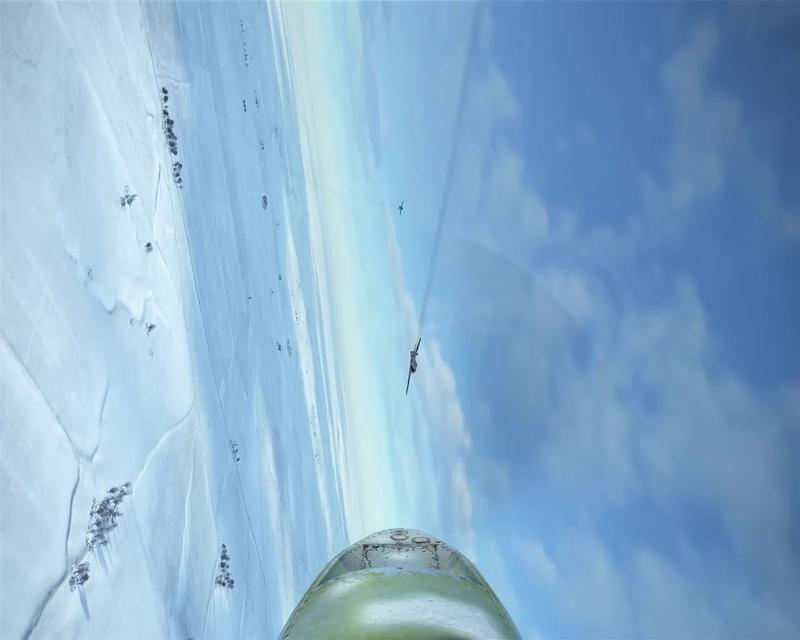UAV: (405, 337, 423, 395), (397, 200, 405, 216)
